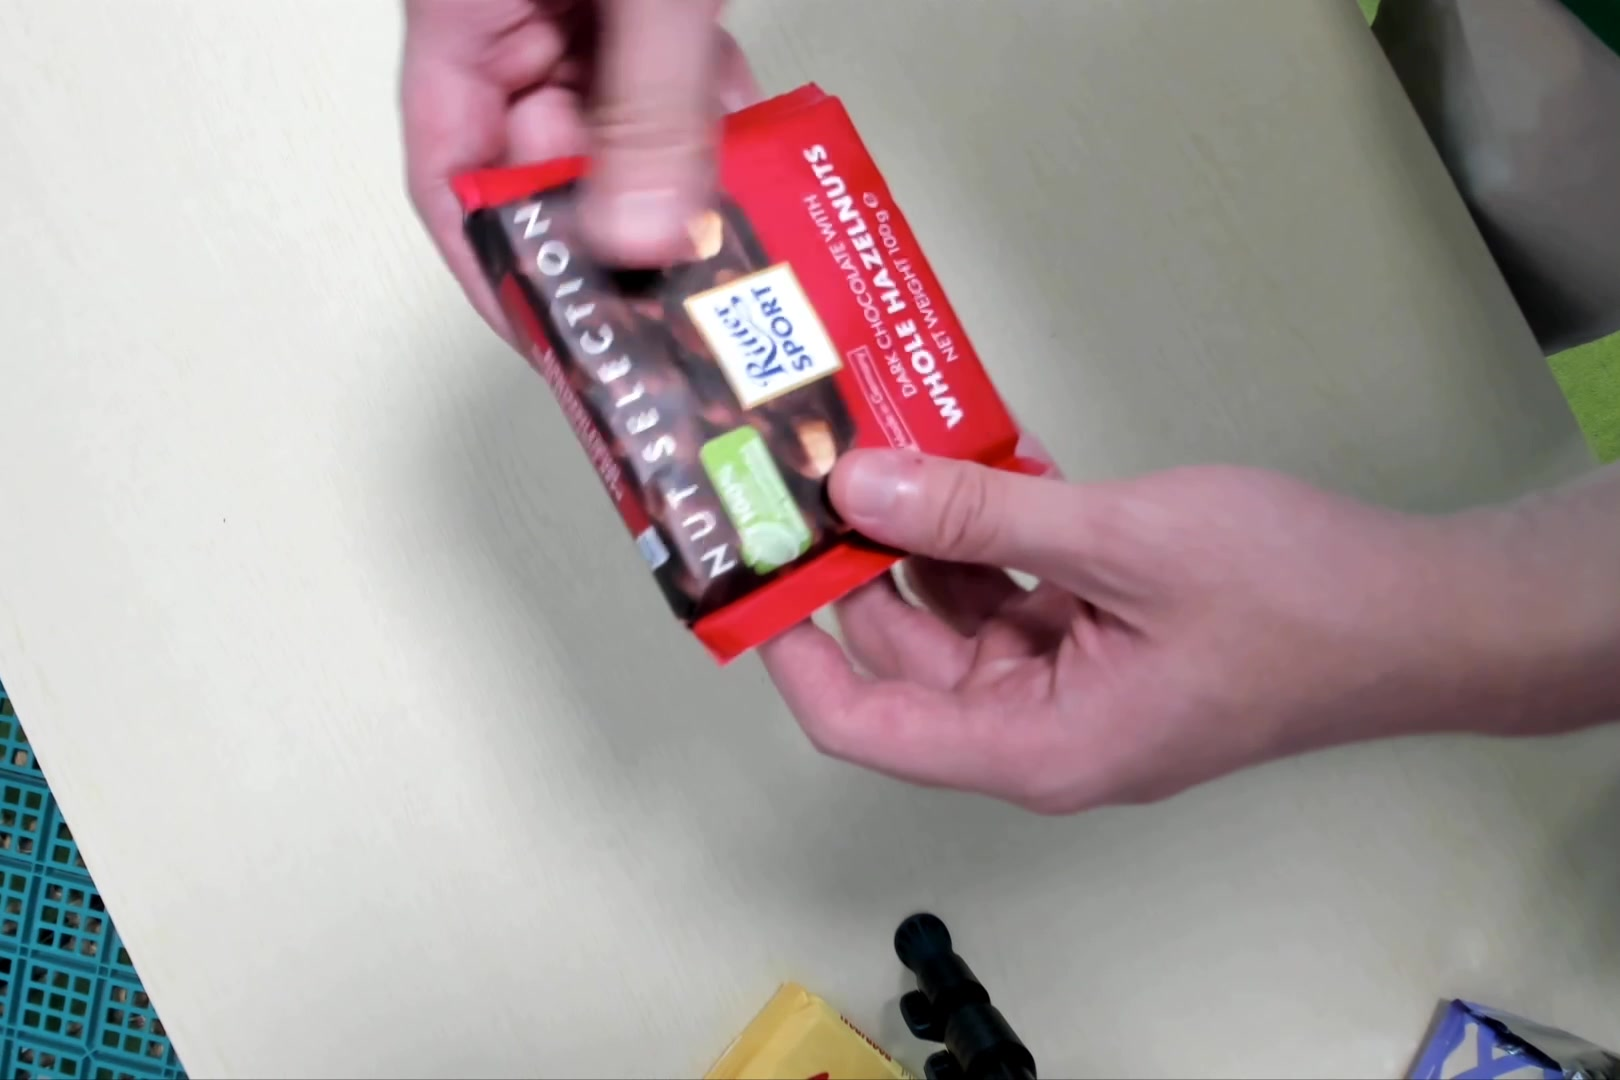SweetsChocolatesOthers_100-199g_NonHalal_NonHealthy: (450, 90, 1027, 665)
